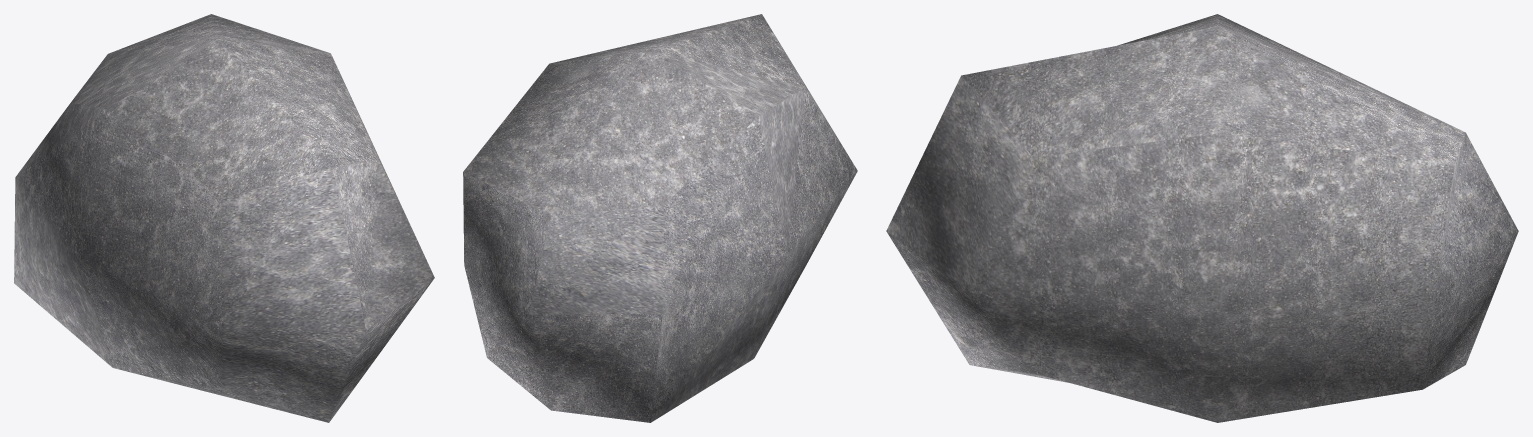
The model's file is rock.fbx.
3 views of the same model, side by side, from view 1: azimuth 30°, elevation 25°; view 2: azimuth 150°, elevation 25°; view 3: azimuth 270°, elevation 25° (orthographic). The views are drawn at different scales.
Parts seen in each view (by area): view 1: pCube1; view 2: pCube1; view 3: pCube1.
Boxes of the visible parts, box(x1,y1,x2,y2) form: pCube1: box(14, 14, 434, 422); pCube1: box(463, 14, 857, 422); pCube1: box(886, 14, 1518, 422).
Bounding box in the file's own units: 4.73 × 5.47 × 8.19.
1 material, 1 textured.
